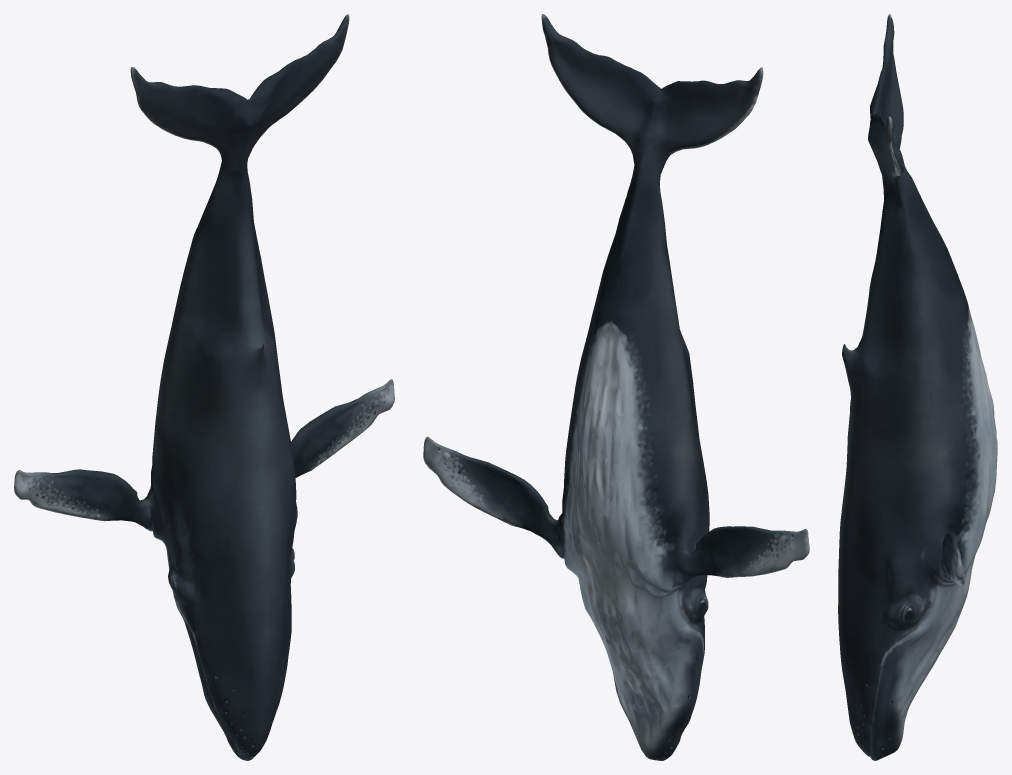
File: whale.glb
3 renders of one model, left to right at view 1: azimuth 30°, elevation 25°; view 2: azimuth 150°, elevation 25°; view 3: azimuth 270°, elevation 25°, orthographic. The views are drawn at different scales.
Visible parts, largest first — view 1: Layer_1; view 2: Layer_1; view 3: Layer_1.
Boxes of the visible parts, box(x1,y1,x2,y2) form: Layer_1: box(14, 14, 394, 760); Layer_1: box(423, 14, 809, 760); Layer_1: box(838, 14, 997, 760).
Size of the model in its own units: 143 by 257 by 53.51.
1 material, 1 textured.
